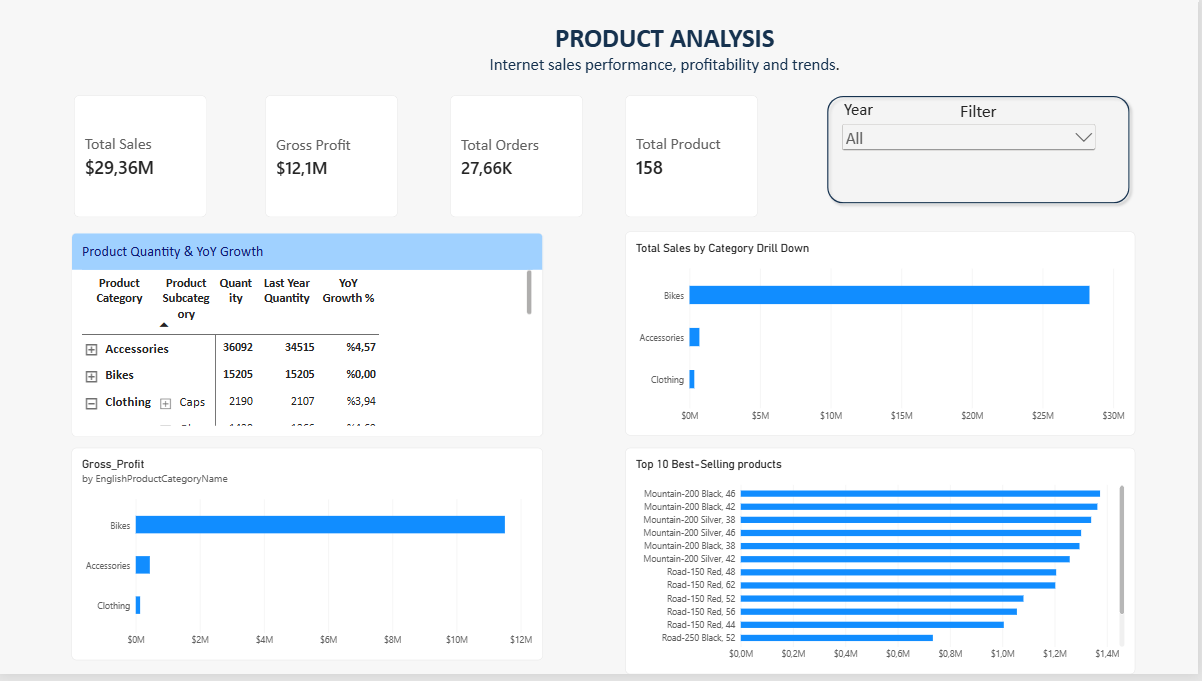

The page's visual inventory and layout, read from the dashboard file:
{"tool":"powerbi","page":{"name":"Product Overview","canvas":[1920,1080],"ordinal":0},"visuals":[{"type":"textbox","box":[758,36,614,140],"z":0},{"type":"cardVisual","fields":{"Data":["FactInternetSales.Total_Sales"]},"box":[120,154,212,195],"z":1000},{"type":"clusteredBarChart","title":"Top 10 Best-Selling products","fields":{"Category":["DimProduct.EnglishProductName"],"Y":["FactInternetSales.Total_Sales"]},"box":[1002,718,816,362],"z":2000},{"type":"barChart","title":"Total Sales by Category Drill Down","fields":{"Category":["DimProductCategory.EnglishProductCategoryName","DimProductSubcategory.EnglishProductSubcategoryName","DimProduct.EnglishProductName"],"Y":["FactInternetSales.Total_Sales"]},"box":[1002,372,816,326],"z":3000},{"type":"pivotTable","title":"Product Quantity & YoY Growth","fields":{"Rows":["DimProductCategory.EnglishProductCategoryName","DimProductSubcategory.EnglishProductSubcategoryName","DimProduct.EnglishProductName"],"Values":["FactInternetSales.Total Quantity Sold","FactInternetSales.Quantity Last Year","FactInternetSales.Quantity YoY Growth %"]},"box":[116,374,754,326],"z":4000},{"type":"barChart","fields":{"Category":["DimProductCategory.EnglishProductCategoryName","DimProductSubcategory.EnglishProductSubcategoryName","DimProduct.EnglishProductName"],"Y":["FactInternetSales.Gross_Profit"]},"box":[116,718,754,340],"z":5000},{"type":"group","id":"g1","title":"Group 1","box":[1315.6,146.6,503.1,190],"z":6000},{"type":"cardVisual","fields":{"Data":["FactInternetSales.Gross_Profit"]},"box":[426,154,212,195],"z":7000},{"type":"cardVisual","fields":{"Data":["FactInternetSales.Total_Orders"]},"box":[722,154,212,195],"z":8000},{"type":"shape","box":[1315.6,146.6,502,190],"z":9000,"group":"g1"},{"type":"cardVisual","fields":{"Data":["FactInternetSales.Total_Product"]},"box":[1002.6,153.8,212,195],"z":9000},{"type":"slicer","fields":{"Values":["DimDate.CalendarYear"]},"box":[1344.2,161.6,415.4,146.6],"z":9500,"group":"g1"}]}

Visuals, with their boxes in screenshot pixels (x1, y1, x2, y2), scaled from the page's 1920x1080 canvas onto the 1202x681 screenshot:
textbox: (x1=475, y1=23, x2=859, y2=111)
cardVisual - FactInternetSales.Total_Sales: (x1=75, y1=97, x2=208, y2=220)
"Top 10 Best-Selling products" clusteredBarChart: (x1=627, y1=453, x2=1138, y2=680)
"Total Sales by Category Drill Down" barChart: (x1=627, y1=235, x2=1138, y2=440)
"Product Quantity & YoY Growth" pivotTable: (x1=73, y1=236, x2=545, y2=441)
barChart - DimProductCategory.EnglishProductCategoryName x DimProductSubcategory.EnglishProductSubcategoryName: (x1=73, y1=453, x2=545, y2=667)
"Group 1" group: (x1=824, y1=92, x2=1139, y2=212)
cardVisual - FactInternetSales.Gross_Profit: (x1=267, y1=97, x2=399, y2=220)
cardVisual - FactInternetSales.Total_Orders: (x1=452, y1=97, x2=585, y2=220)
shape: (x1=824, y1=92, x2=1138, y2=212)
cardVisual - FactInternetSales.Total_Product: (x1=628, y1=97, x2=760, y2=220)
slicer - DimDate.CalendarYear: (x1=842, y1=102, x2=1102, y2=194)
